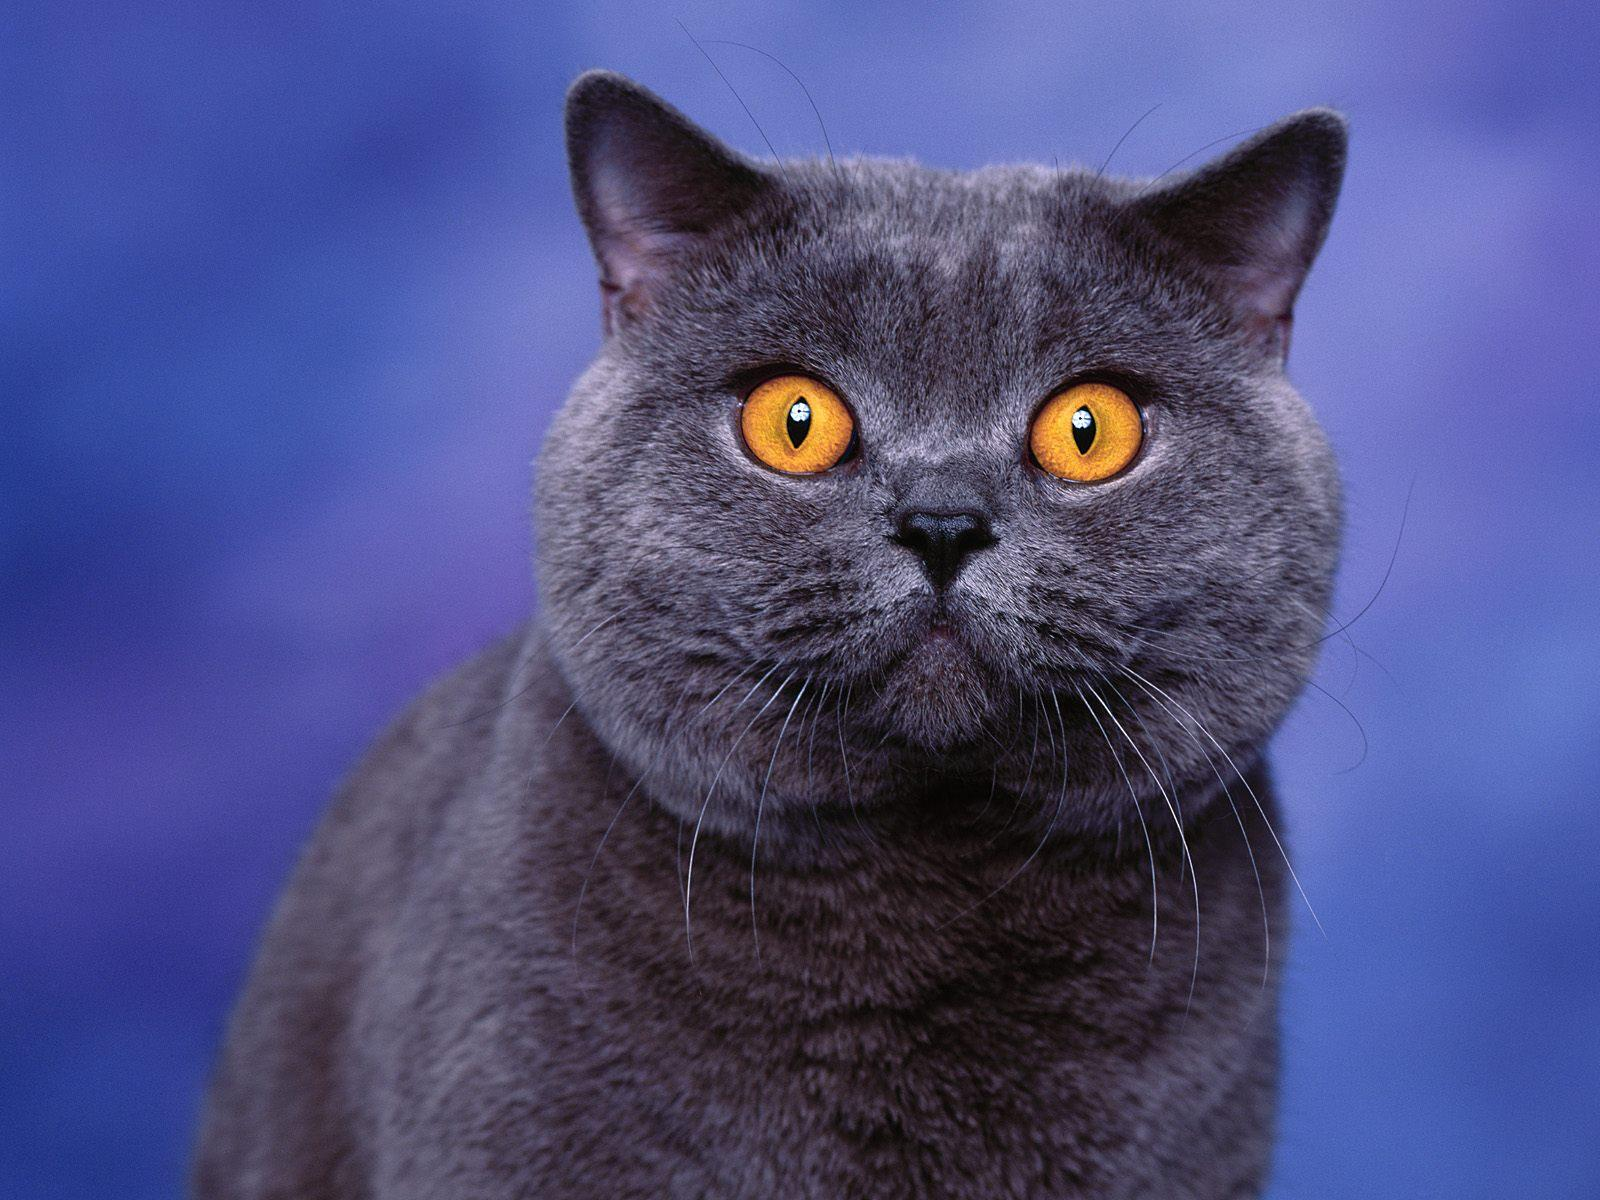cat: (168, 71, 1385, 1197)
